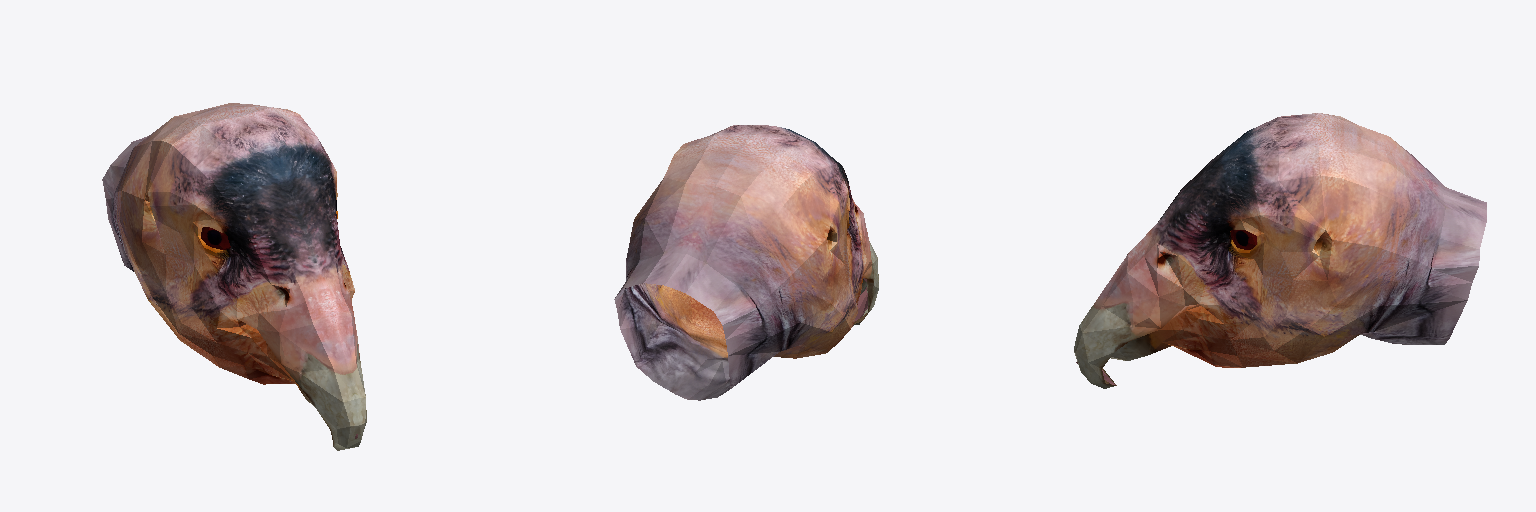
3 views of the same model, side by side, from view 1: azimuth 30°, elevation 25°; view 2: azimuth 150°, elevation 25°; view 3: azimuth 270°, elevation 25° (orthographic).
Visible parts, largest first — view 1: Cabeza; view 2: Cabeza; view 3: Cabeza.
Part boxes in pixels (x1,y1,x2,y2): Cabeza: (102,103,366,450); Cabeza: (614,125,878,400); Cabeza: (1074,113,1486,388).
Size of the model in its own units: 0.09 by 0.1226 by 0.1754.
1 materials, 1 textured.